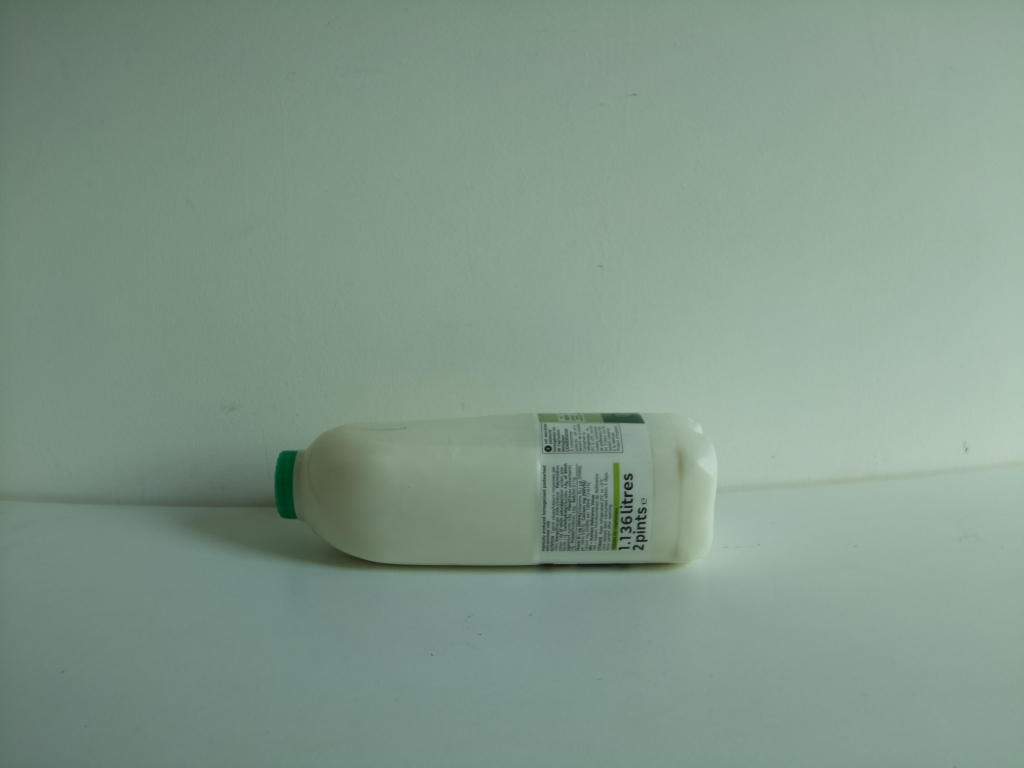milk: (263, 403, 726, 582)
